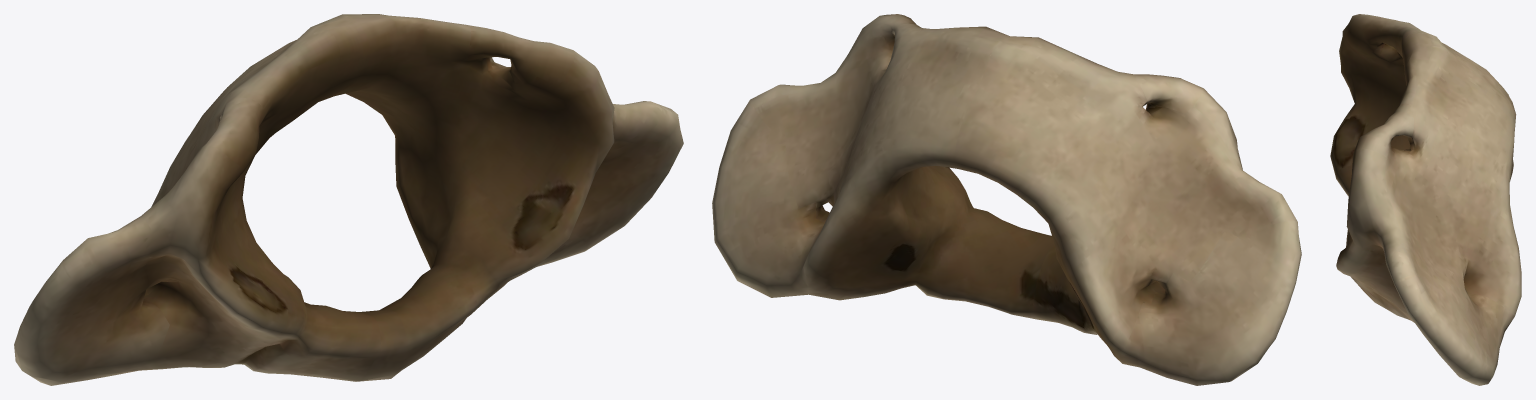
The model's file is C1_Atlas.glb.
3 views of the same model, side by side, from view 1: azimuth 30°, elevation 25°; view 2: azimuth 150°, elevation 25°; view 3: azimuth 270°, elevation 25° (orthographic). The views are drawn at different scales.
Visible parts, largest first — view 1: C1_Atlas1:Group57040; view 2: C1_Atlas1:Group57040; view 3: C1_Atlas1:Group57040.
Part boxes in pixels (left/top/right/bottom): C1_Atlas1:Group57040: left=14, top=14, right=683, bottom=385; C1_Atlas1:Group57040: left=712, top=14, right=1301, bottom=385; C1_Atlas1:Group57040: left=1330, top=14, right=1521, bottom=385.
Bounding box in the file's own units: 61.58 × 30.88 × 20.69.
1 material, 1 textured.
